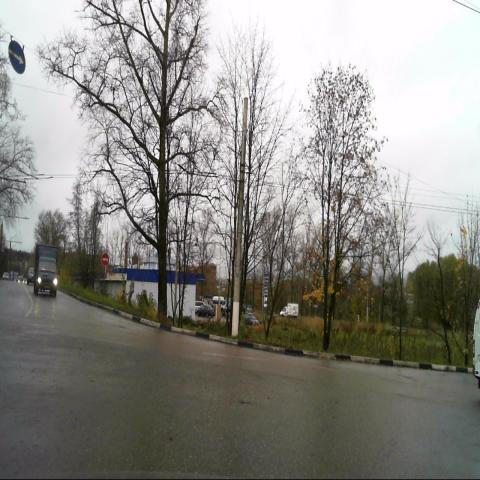4_1_2_1: (7, 38, 26, 76)
